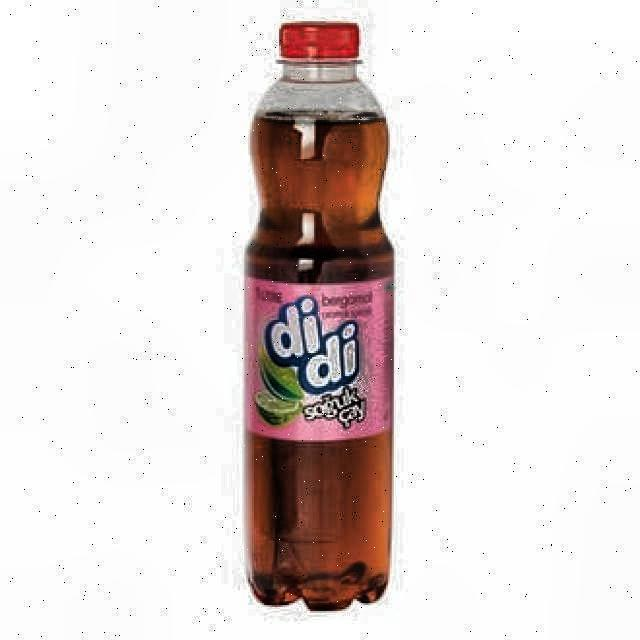plastic: (241, 19, 396, 614)
